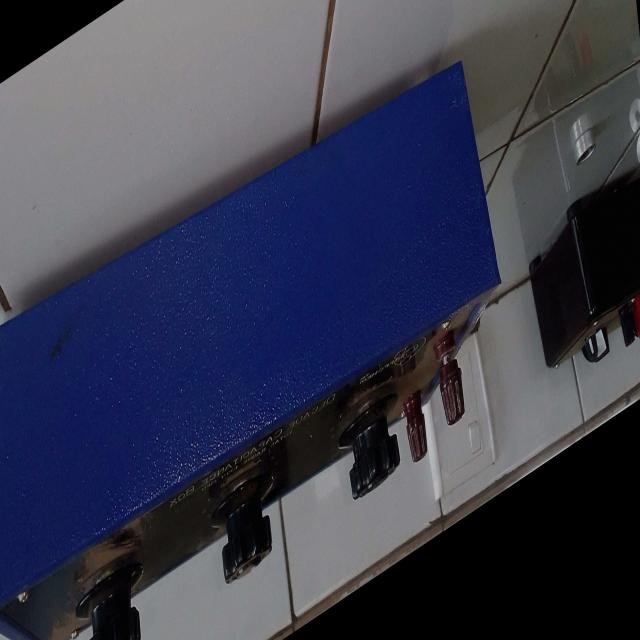Decade Capacitor Box: (0, 0, 525, 640)
